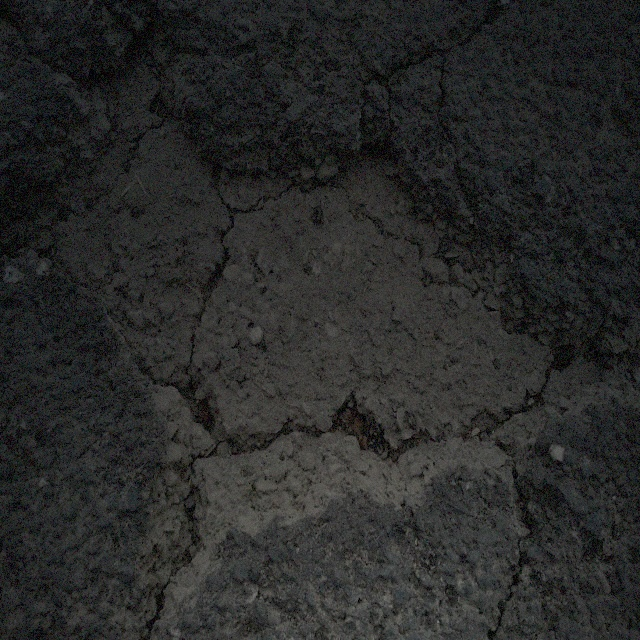pothole: (52, 53, 565, 492)
